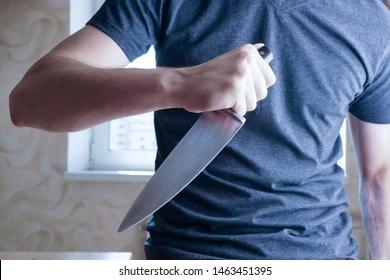Knife: (9, 0, 390, 260), (119, 111, 246, 229), (184, 44, 277, 114)
